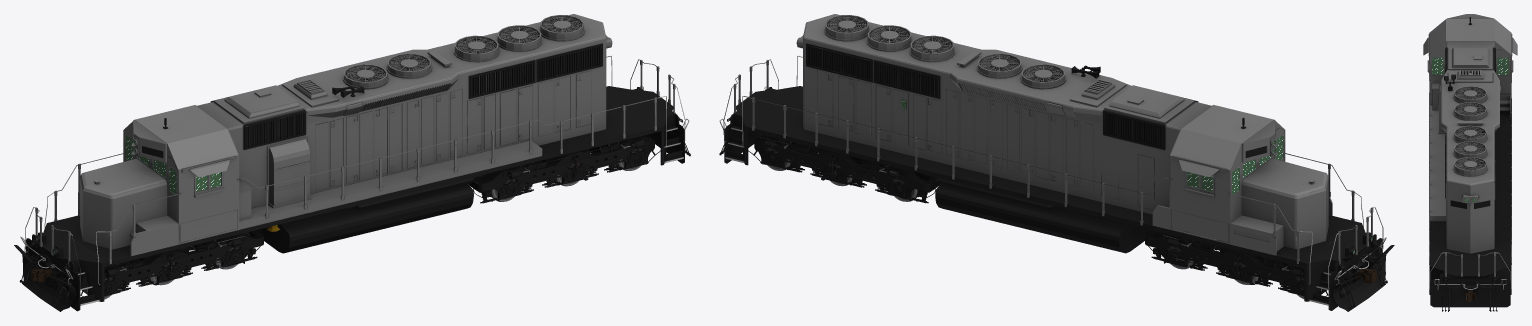
Rendered from emd_sd40-2.obj.
3 renders of one model, left to right at view 1: azimuth 30°, elevation 25°; view 2: azimuth 150°, elevation 25°; view 3: azimuth 270°, elevation 25°, orthographic. The views are drawn at different scales.
Visible parts, largest first — view 1: SHELL_Cube.046, FRAME_Cube.032, CAB_Cube.034, Cube.061_Cube.104, FUEL_TANK_Cube.028, BOGEY_REAR_Cube.025, BOGEY_FRONT_Cube.008, Cube.066_Cube.126, MUCABLE.002; view 2: SHELL_Cube.046, FRAME_Cube.032, CAB_Cube.034, Cube.061_Cube.104, FUEL_TANK_Cube.028, BOGEY_REAR_Cube.025, BOGEY_FRONT_Cube.008, Cube.066_Cube.126, MUCABLE.002; view 3: SHELL_Cube.046, FRAME_Cube.032, CAB_Cube.034, Cube.066_Cube.126, MUCABLE.002, Cube.061_Cube.104, HORN_Cube.127, FRONT_COUPLER.000_Cube.033.
Part boxes in pixels (box(x1,y1,x2,y2)): SHELL_Cube.046: box(197, 14, 612, 229); FRAME_Cube.032: box(26, 86, 684, 311); CAB_Cube.034: box(123, 105, 239, 244); Cube.061_Cube.104: box(78, 158, 251, 256); FUEL_TANK_Cube.028: box(256, 174, 484, 253); BOGEY_REAR_Cube.025: box(468, 135, 660, 203); BOGEY_FRONT_Cube.008: box(79, 230, 263, 296); Cube.066_Cube.126: box(25, 56, 685, 288); MUCABLE.002: box(14, 86, 690, 311); SHELL_Cube.046: box(796, 14, 1211, 214); FRAME_Cube.032: box(724, 86, 1382, 310); CAB_Cube.034: box(1169, 105, 1285, 244); Cube.061_Cube.104: box(1152, 158, 1332, 255); FUEL_TANK_Cube.028: box(924, 174, 1304, 267); BOGEY_REAR_Cube.025: box(748, 135, 940, 203); BOGEY_FRONT_Cube.008: box(1145, 230, 1329, 296); Cube.066_Cube.126: box(723, 56, 1383, 288); MUCABLE.002: box(719, 86, 1394, 311); SHELL_Cube.046: box(1430, 41, 1500, 253); FRAME_Cube.032: box(1429, 111, 1511, 307); CAB_Cube.034: box(1423, 14, 1517, 105); Cube.066_Cube.126: box(1428, 72, 1512, 288); MUCABLE.002: box(1434, 276, 1506, 311); Cube.061_Cube.104: box(1432, 83, 1511, 116); HORN_Cube.127: box(1444, 74, 1455, 90); FRONT_COUPLER.000_Cube.033: box(1465, 289, 1475, 302).
Bounding box in the file's own units: 21.8 × 5 × 3.7.
7 materials, 6 textured.
